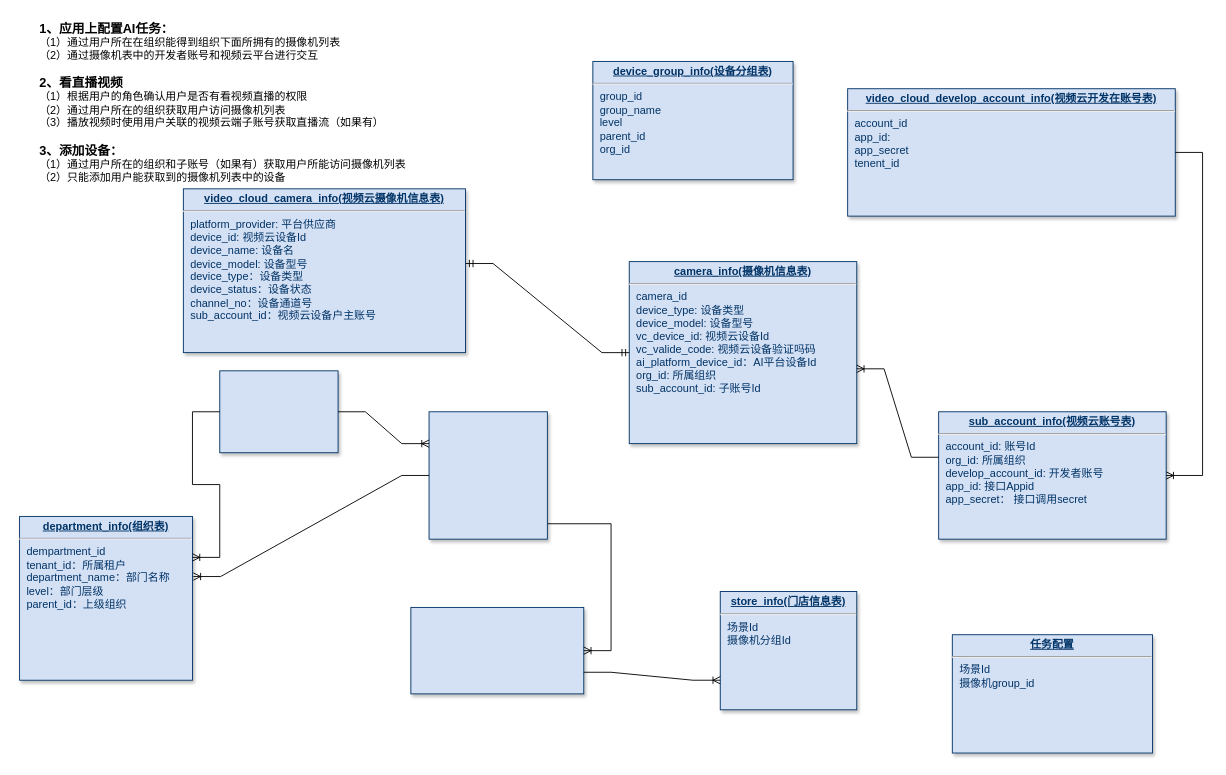
Some shapes in this 1226 by 775 pixel diagram are drawn without their labels. Each missing label, with the centre of its shape:
r_user_store(用户和门店关系表) user_id： store_id: the point at 497,651
tenant_info(租户表) tenant_id tenate_name: the point at 279,412
user_info(用户表) user_id： tenant_id department_id: the point at 489,476
